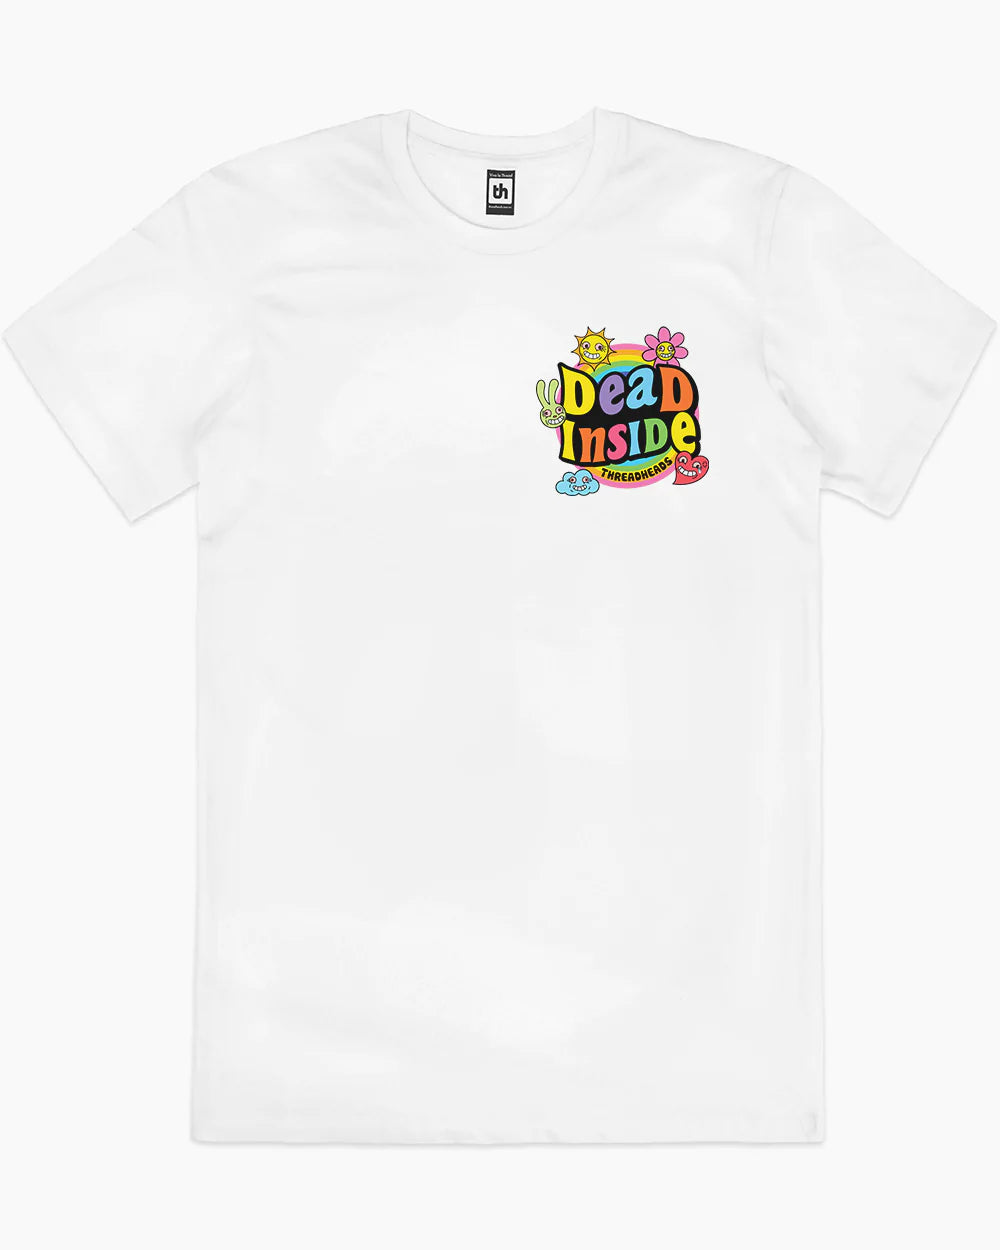design: (530, 320, 717, 501)
